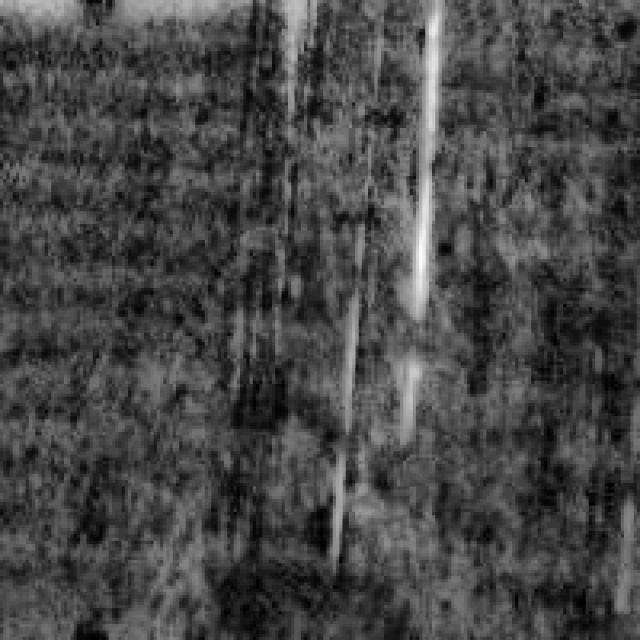Inclusion: (384, 0, 442, 426)
